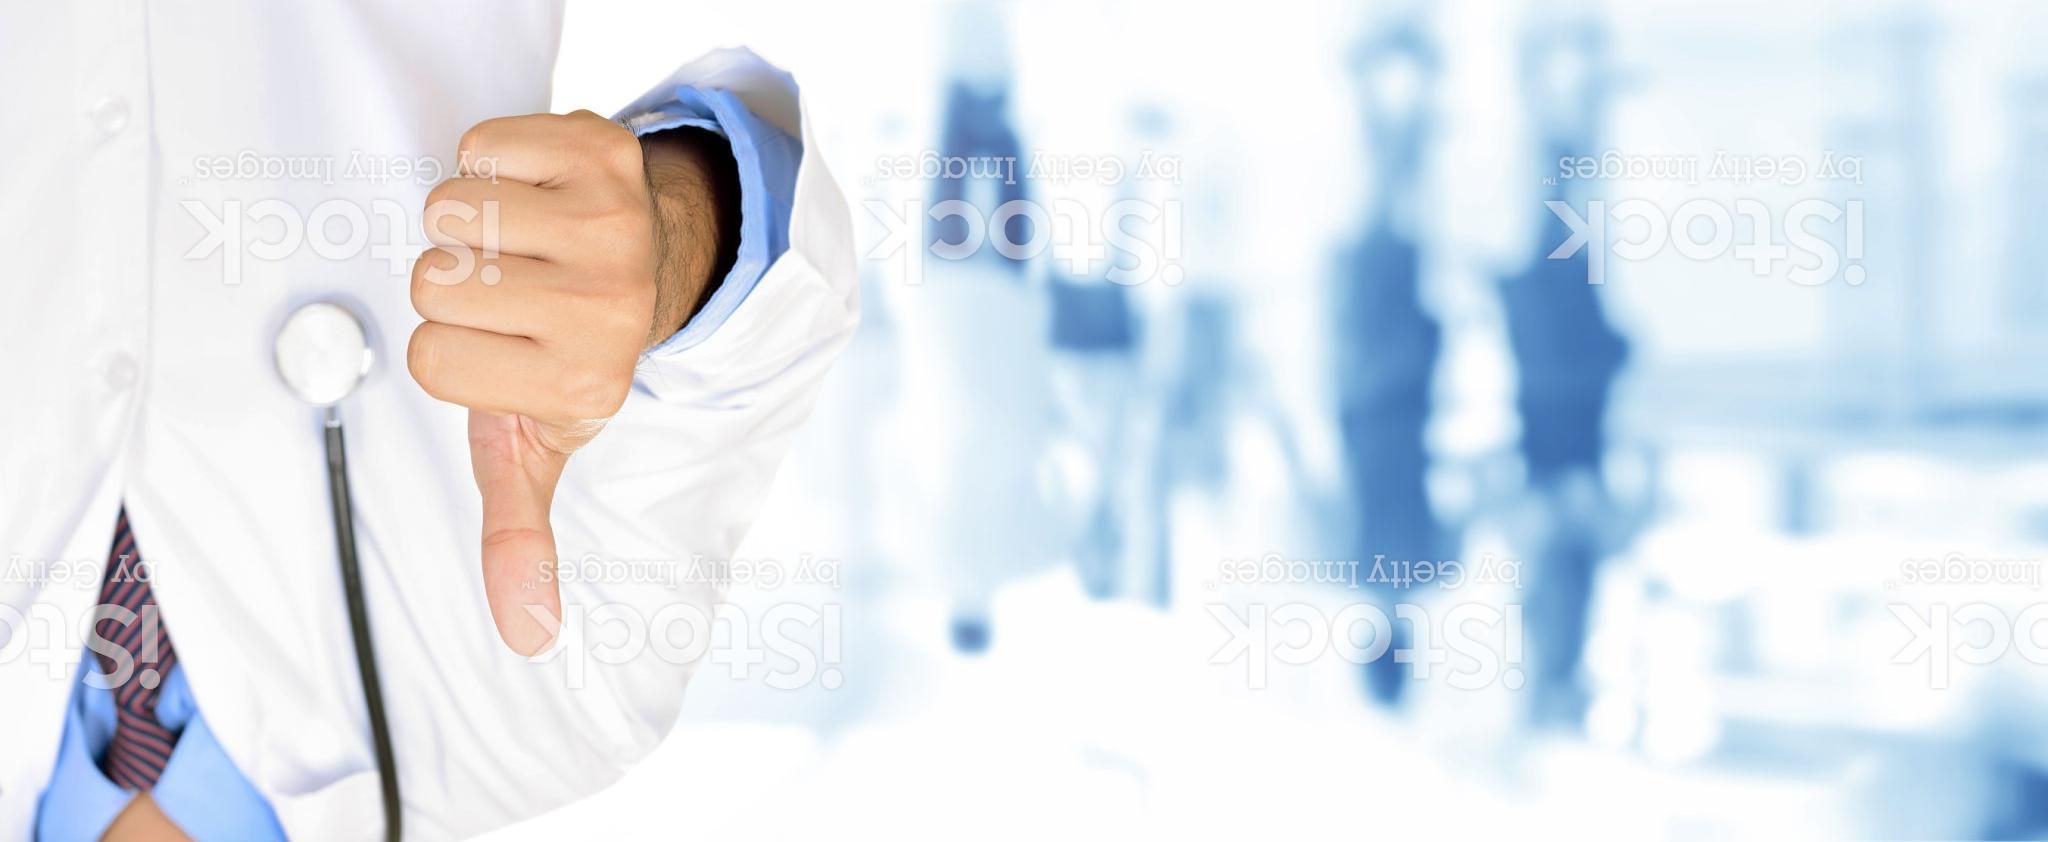thumbsdown: (404, 104, 667, 662)
